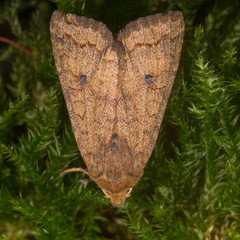Alucitidae: (45, 4, 187, 208)
moth: (47, 6, 189, 210)
